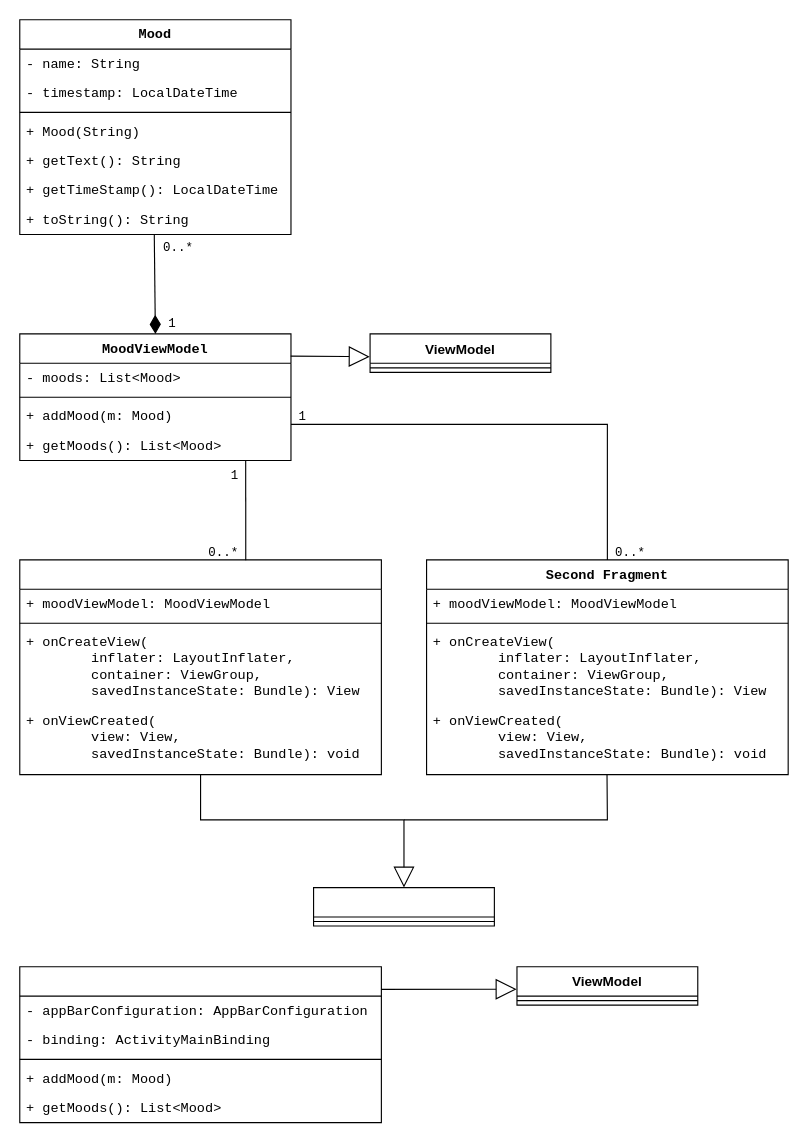
This 808x1146 diagram has some shape labels left out. Each missing label, with the box of its shape:
First Fragment: (19, 559, 381, 775)
Fragment: (312, 886, 494, 926)
MainActivity: (19, 966, 381, 1123)
